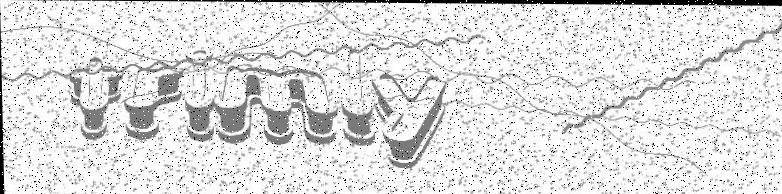i: (186, 45, 215, 143)
l: (339, 44, 377, 146)
m: (212, 63, 339, 145)
r: (122, 61, 186, 142)
t: (65, 55, 124, 140)
y: (370, 69, 454, 172)
